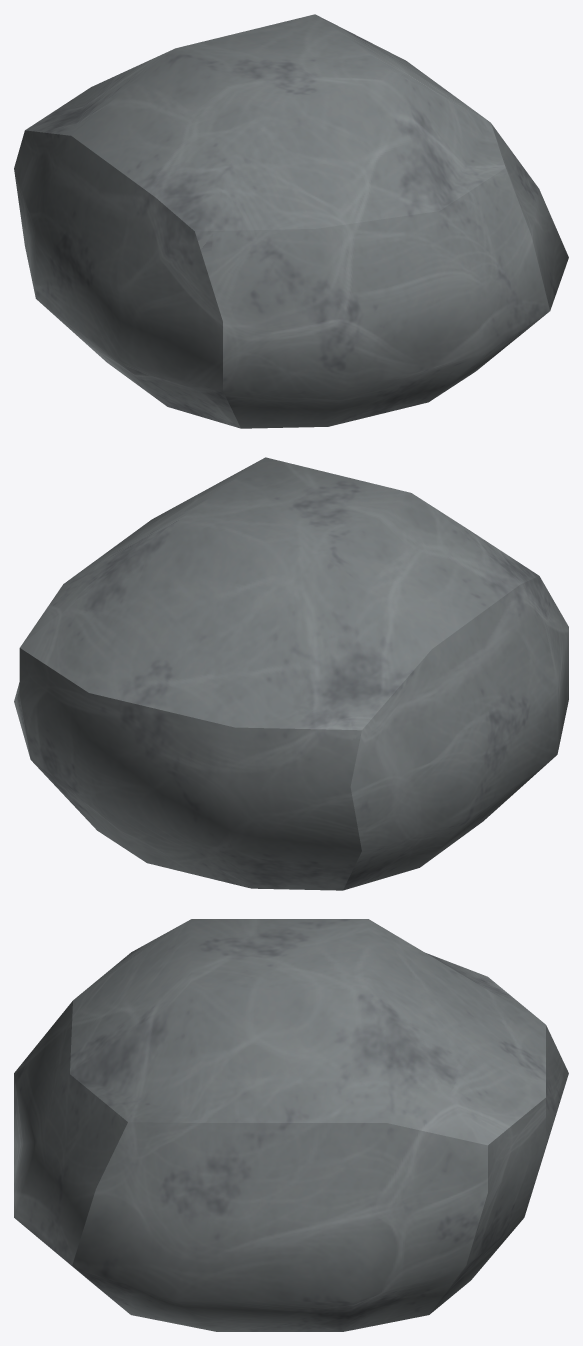
Rendered from Rock_A.fbx.
3 views of the same model, one above another, from view 1: azimuth 30°, elevation 25°; view 2: azimuth 150°, elevation 25°; view 3: azimuth 270°, elevation 25° (orthographic). The views are drawn at different scales.
Visible parts, largest first — view 1: Rock_A; view 2: Rock_A; view 3: Rock_A.
Boxes of the visible parts, x1=… form: Rock_A: x1=14, y1=14, x2=568, y2=428; Rock_A: x1=14, y1=457, x2=568, y2=890; Rock_A: x1=14, y1=919, x2=568, y2=1331.
Size of the model in its own units: 92.77 by 59.52 by 96.1.
